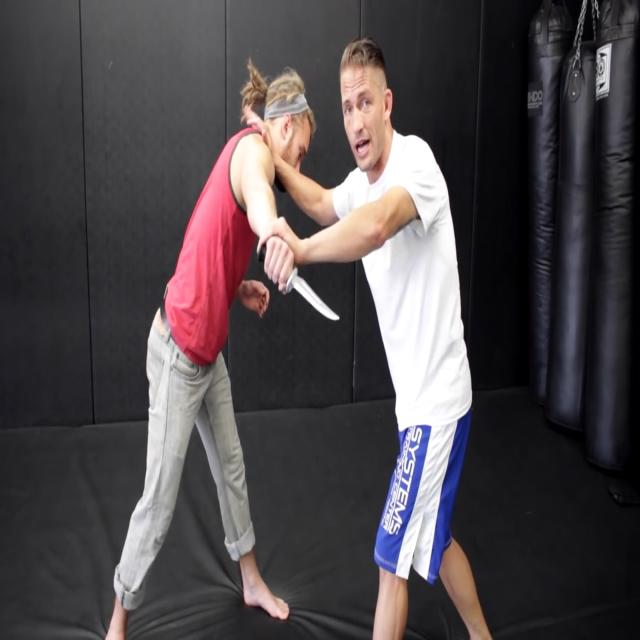knife: (290, 264, 344, 327)
